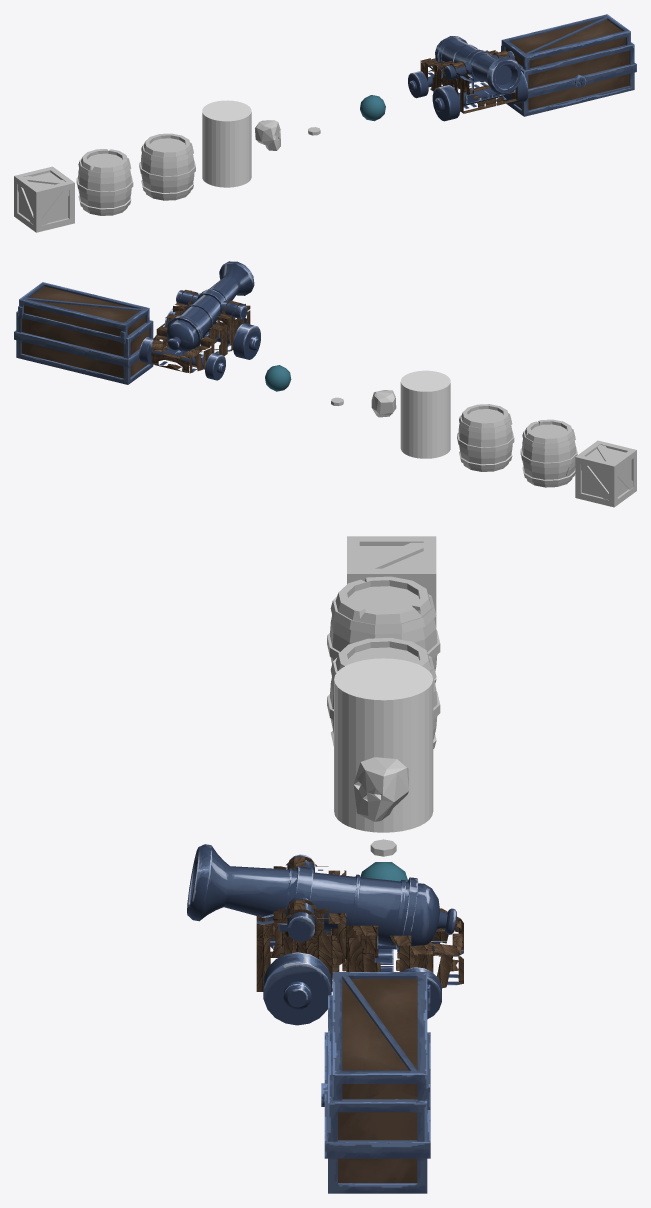
Rendered from collected (1) 1.fbx.
3 renders of one model, top to bottom at view 1: azimuth 30°, elevation 25°; view 2: azimuth 150°, elevation 25°; view 3: azimuth 270°, elevation 25°, orthographic. The views are drawn at different scales.
Visible parts, largest first — view 1: Box003, person refrence, barrel.001, barrel, create.003, Cylinder.001, Cube.008, Cylinder.002, skull, Cylinder.003, Icosphere, Cylinder.004 (+1 smaller); view 2: Box003, person refrence, barrel.001, barrel, Cylinder.001, create.003, Cube.008, Cylinder.003, Cylinder.002, Cylinder.004, skull, Icosphere; view 3: Box003, person refrence, Cylinder.001, Cube.008, barrel, Cylinder.002, create.003, skull, barrel.001, Cylinder.004.
Part boxes in pixels (x1=…): Box003: x1=499, y1=14, x2=636, y2=116; person refrence: x1=202, y1=100, x2=251, y2=187; barrel.001: x1=139, y1=133, x2=195, y2=200; barrel: x1=76, y1=149, x2=133, y2=215; create.003: x1=14, y1=166, x2=74, y2=232; Cylinder.001: x1=435, y1=36, x2=521, y2=94; Cube.008: x1=420, y1=49, x2=517, y2=113; Cylinder.002: x1=432, y1=71, x2=528, y2=121; skull: x1=255, y1=120, x2=280, y2=150; Cylinder.003: x1=408, y1=71, x2=484, y2=98; Icosphere: x1=360, y1=95, x2=385, y2=121; Cylinder.004: x1=444, y1=51, x2=514, y2=79; Box003: x1=14, y1=282, x2=153, y2=384; person refrence: x1=400, y1=370, x2=450, y2=458; barrel.001: x1=457, y1=404, x2=514, y2=471; barrel: x1=520, y1=419, x2=577, y2=487; Cylinder.001: x1=166, y1=261, x2=254, y2=351; create.003: x1=575, y1=440, x2=636, y2=507; Cube.008: x1=151, y1=292, x2=250, y2=373; Cylinder.003: x1=139, y1=337, x2=225, y2=380; Cylinder.002: x1=164, y1=308, x2=260, y2=359; Cylinder.004: x1=176, y1=290, x2=247, y2=319; skull: x1=371, y1=390, x2=396, y2=417; Icosphere: x1=265, y1=365, x2=291, y2=391; Box003: x1=321, y1=972, x2=430, y2=1193; person refrence: x1=334, y1=658, x2=433, y2=832; Cylinder.001: x1=187, y1=844, x2=456, y2=952; Cube.008: x1=256, y1=870, x2=463, y2=991; barrel: x1=327, y1=576, x2=440, y2=683; Cylinder.002: x1=263, y1=920, x2=331, y2=1025; create.003: x1=347, y1=536, x2=436, y2=626; skull: x1=353, y1=757, x2=409, y2=821; barrel.001: x1=327, y1=638, x2=440, y2=748; Cylinder.004: x1=287, y1=854, x2=314, y2=941.
Size of the model in its own units: 1692 by 260 by 341.
